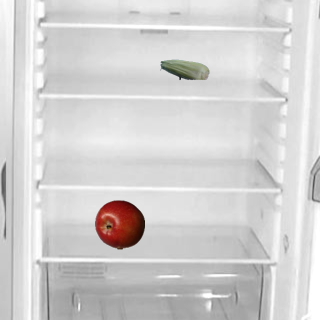Apple Braeburn: (94, 199, 144, 249)
Corn Husk: (159, 44, 209, 94)
